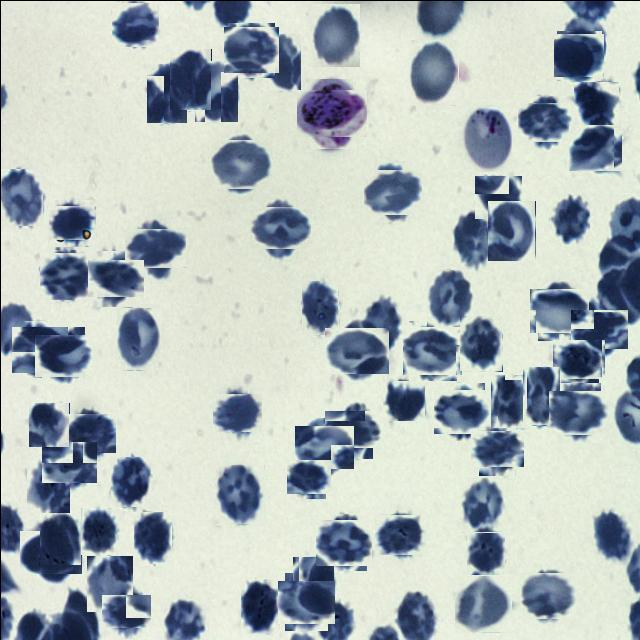gametocyte: (302, 84, 361, 142)
red blood cell: (454, 574, 512, 632), (408, 39, 458, 105), (212, 136, 268, 192), (328, 322, 384, 377), (311, 3, 359, 66), (215, 464, 264, 524), (487, 200, 535, 261), (405, 323, 459, 377), (116, 307, 162, 370), (24, 525, 77, 578), (253, 202, 306, 254), (366, 165, 418, 218), (551, 386, 604, 438), (194, 60, 238, 122), (522, 570, 574, 622), (533, 284, 585, 336), (297, 420, 349, 472), (13, 322, 65, 374), (426, 269, 473, 326), (169, 48, 211, 110), (317, 516, 368, 567), (225, 24, 276, 75), (86, 555, 132, 611), (437, 386, 488, 436), (280, 576, 331, 626), (460, 477, 506, 532), (40, 250, 90, 300), (129, 222, 179, 272), (38, 330, 88, 380), (570, 122, 620, 172), (146, 63, 187, 123), (0, 168, 43, 225), (459, 315, 502, 371), (44, 436, 92, 486), (26, 457, 69, 512), (520, 98, 568, 146), (330, 404, 378, 452), (574, 304, 622, 352), (360, 297, 401, 353), (560, 16, 604, 68), (292, 556, 334, 610), (522, 366, 560, 425), (91, 254, 138, 301), (554, 32, 602, 78), (451, 212, 491, 267), (262, 33, 300, 90), (490, 374, 530, 428), (39, 512, 80, 564), (377, 511, 423, 557), (555, 336, 601, 382), (112, 1, 158, 47), (573, 81, 618, 128), (474, 175, 522, 219), (240, 578, 279, 632), (66, 410, 112, 455), (300, 280, 338, 334), (474, 426, 519, 471), (110, 456, 150, 506), (548, 194, 588, 244), (133, 511, 171, 563), (592, 508, 630, 560), (215, 390, 259, 434), (466, 525, 504, 574), (28, 402, 69, 447), (105, 590, 146, 632), (80, 507, 116, 554), (51, 202, 92, 243), (382, 380, 424, 420), (288, 456, 328, 496)
ring: (458, 106, 511, 171)
